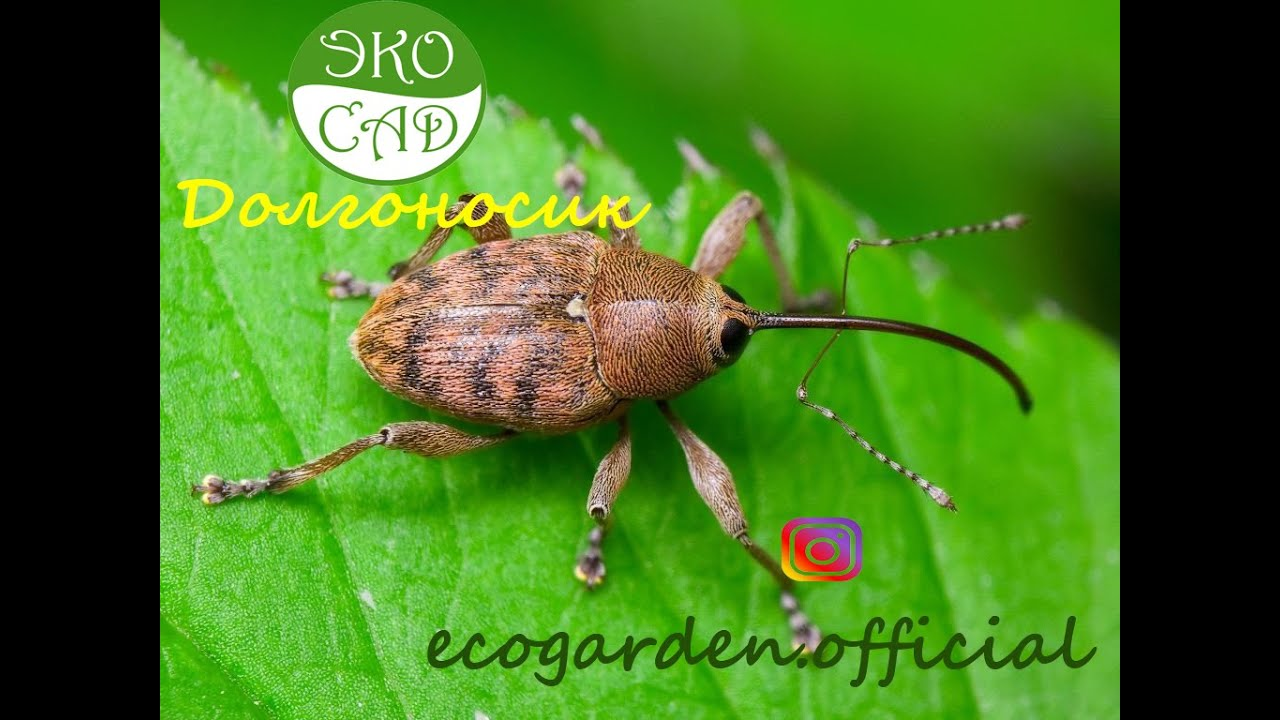dolgonosik: (200, 212, 1043, 579)
